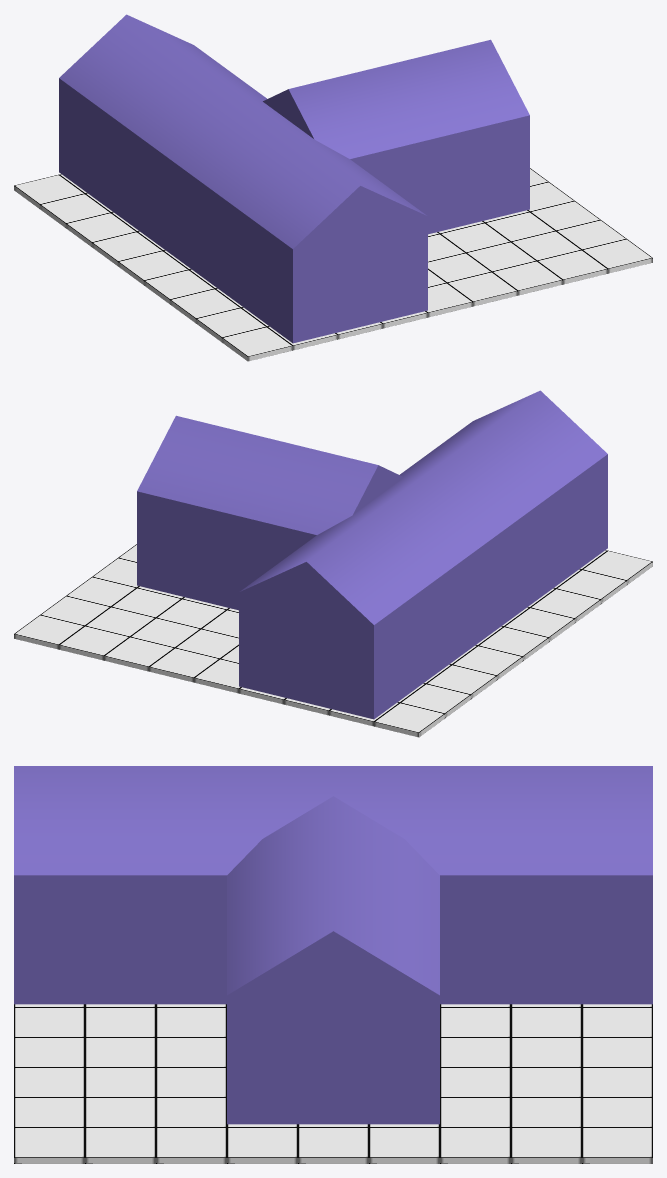
File: XG_Scholars-Hall.glb
3 renders of one model, top to bottom at view 1: azimuth 30°, elevation 25°; view 2: azimuth 150°, elevation 25°; view 3: azimuth 270°, elevation 25°, orthographic. The views are drawn at different scales.
Parts seen in each view (by area): view 1: building_9m_3m_002, building_5m_3m_002, 1m_base_block_788, 1m_base_block_786, 1m_base_block_789, 1m_base_block_781, 1m_base_block_782, 1m_base_block_769, 1m_base_block_767, 1m_base_block_768, 1m_base_block_771, 1m_base_block_772 (+13 smaller); view 2: building_9m_3m_002, building_5m_3m_002, 1m_base_block_797, 1m_base_block_795, 1m_base_block_798, 1m_base_block_790, 1m_base_block_791, 1m_base_block_769, 1m_base_block_767, 1m_base_block_770, 1m_base_block_771, 1m_base_block_773 (+13 smaller); view 3: building_9m_3m_002, building_5m_3m_002, 1m_base_block_774, 1m_base_block_775, 1m_base_block_776, 1m_base_block_777, 1m_base_block_778, 1m_base_block_779, 1m_base_block_780, 1m_base_block_789, 1m_base_block_798, 1m_base_block_718 (+23 smaller).
Boxes of the visible parts, box(x1,y1,x2,y2) form: building_9m_3m_002: box(59, 14, 427, 343); building_5m_3m_002: box(263, 39, 529, 234); 1m_base_block_788: box(222, 327, 292, 361); 1m_base_block_786: box(537, 250, 607, 284); 1m_base_block_789: box(582, 239, 652, 273); 1m_base_block_781: box(492, 261, 562, 295); 1m_base_block_782: box(447, 272, 517, 306); 1m_base_block_769: box(118, 250, 188, 284); 1m_base_block_767: box(66, 212, 136, 246); 1m_base_block_768: box(92, 231, 162, 265); 1m_base_block_771: box(170, 289, 240, 323); 1m_base_block_772: box(40, 193, 110, 227); building_9m_3m_002: box(239, 390, 607, 719); building_5m_3m_002: box(137, 415, 403, 610); 1m_base_block_797: box(374, 703, 444, 737); 1m_base_block_795: box(59, 626, 129, 660); 1m_base_block_798: box(14, 615, 84, 649); 1m_base_block_790: box(104, 637, 174, 671); 1m_base_block_791: box(149, 648, 219, 682); 1m_base_block_769: box(478, 626, 548, 660); 1m_base_block_767: box(426, 665, 496, 699); 1m_base_block_770: box(504, 607, 574, 641); 1m_base_block_771: box(530, 588, 600, 622); 1m_base_block_773: box(556, 569, 626, 603); building_9m_3m_002: box(14, 766, 652, 1004); building_5m_3m_002: box(227, 796, 439, 1124); 1m_base_block_774: box(440, 1127, 510, 1163); 1m_base_block_775: box(369, 1127, 439, 1163); 1m_base_block_776: box(298, 1127, 368, 1163); 1m_base_block_777: box(227, 1127, 297, 1163); 1m_base_block_778: box(156, 1127, 226, 1163); 1m_base_block_779: box(511, 1127, 581, 1163); 1m_base_block_780: box(85, 1127, 155, 1163); 1m_base_block_789: box(14, 1127, 84, 1163); 1m_base_block_798: box(582, 1127, 652, 1163); 1m_base_block_718: box(440, 1067, 510, 1097).
Bounding box in the file's own units: 9 × 3.15 × 9.
Materials: 2 (1 with a texture image).
